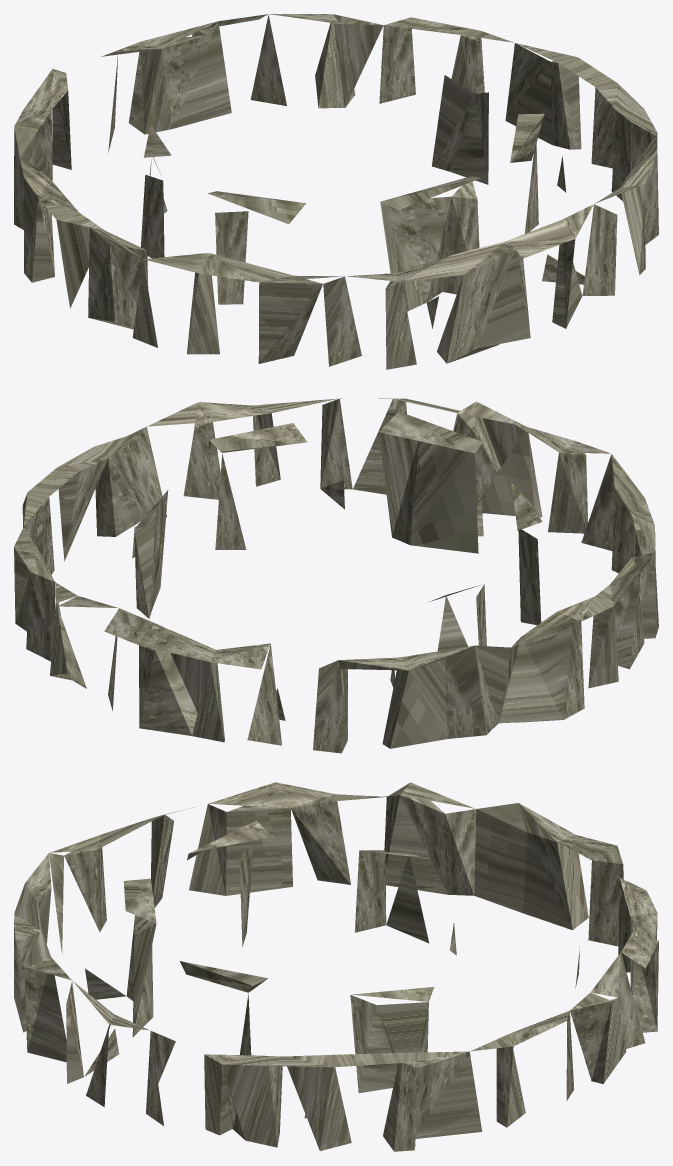
The picture shows the model from 3 angles, top to bottom: view 1: azimuth 30°, elevation 25°; view 2: azimuth 150°, elevation 25°; view 3: azimuth 270°, elevation 25°; orthographic projection.
Visible parts, largest first — view 1: Object_3; view 2: Object_3; view 3: Object_3.
Boxes of the visible parts, x1,y1,x2,y2 form: Object_3: (14, 14, 658, 369); Object_3: (14, 398, 658, 753); Object_3: (14, 782, 658, 1151).
Bounding box in the file's own units: 31.33 × 6.79 × 31.11.
1 material, 1 textured.
